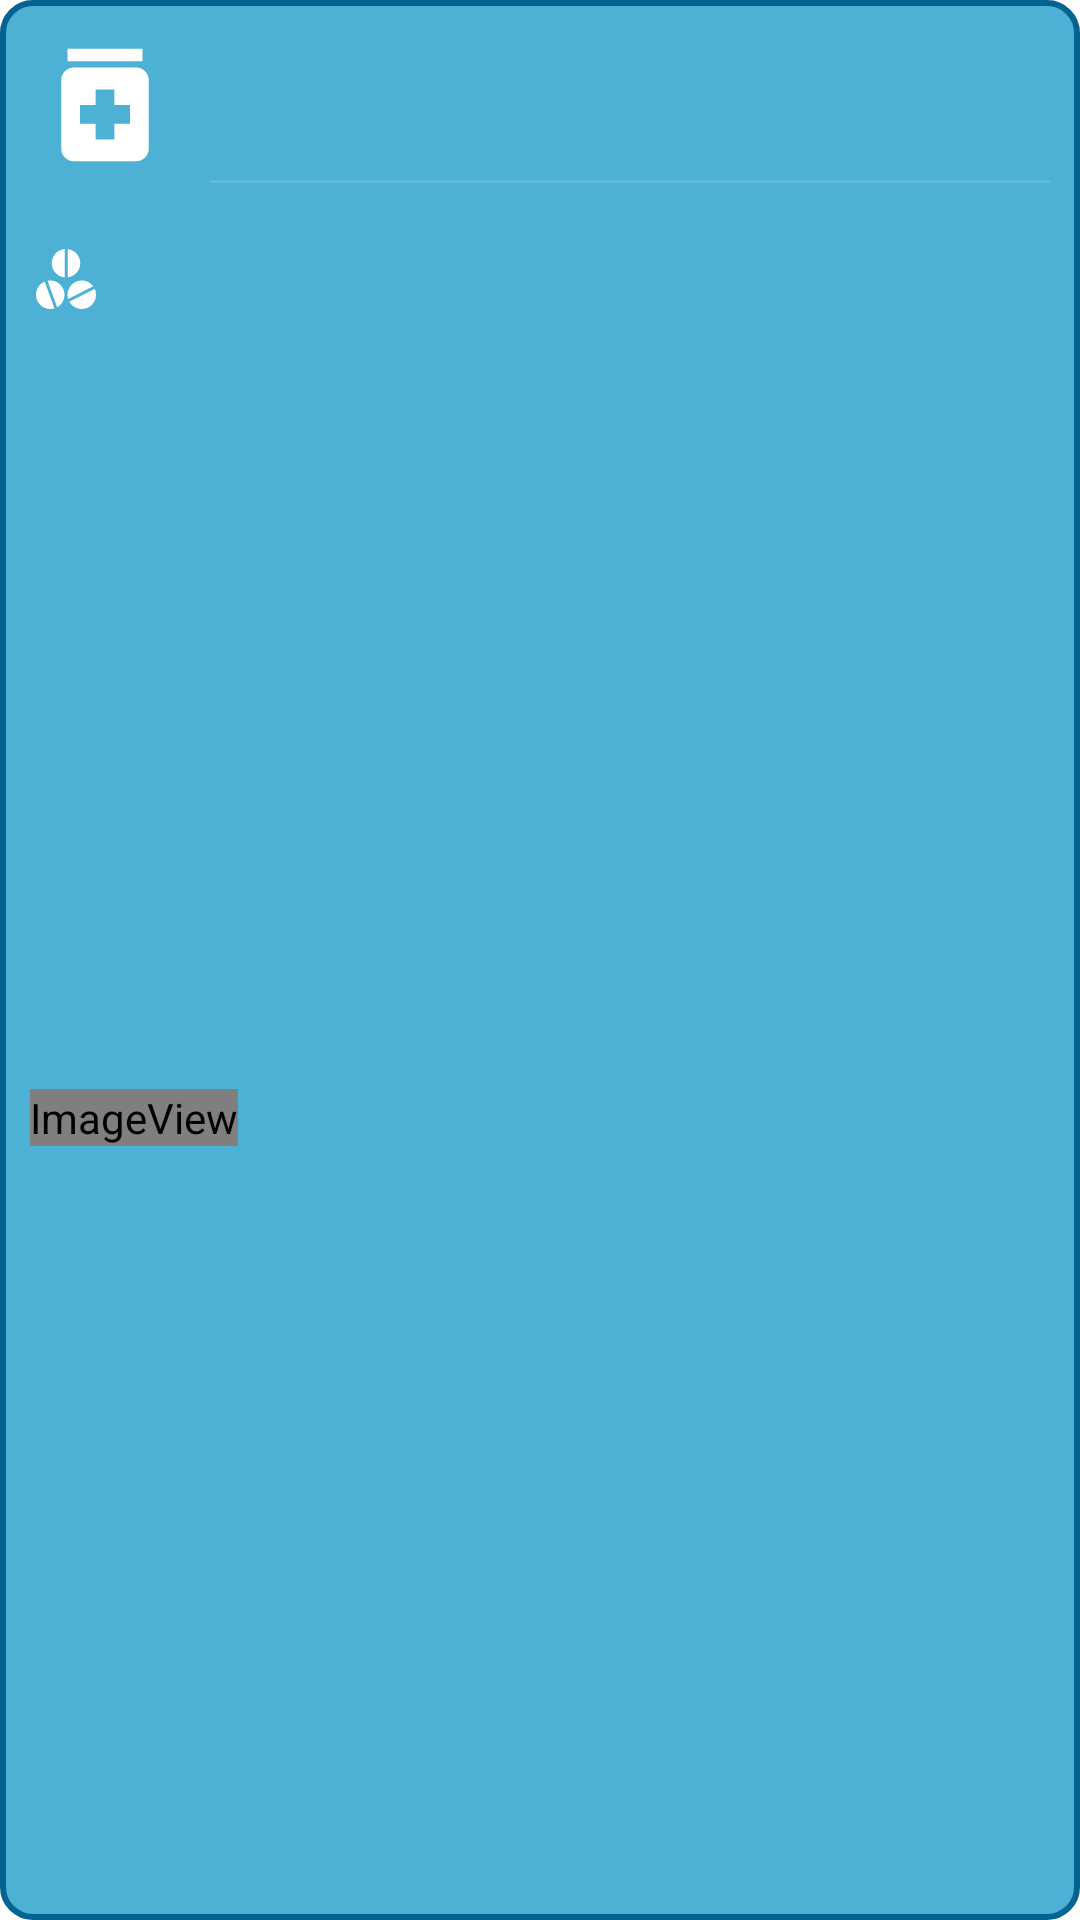

Icons on this 1080×1920 Android screen, each with its box as (x1,y1,x2,y2):
medication: (61,48,149,162)
pills: (36,249,96,309)
